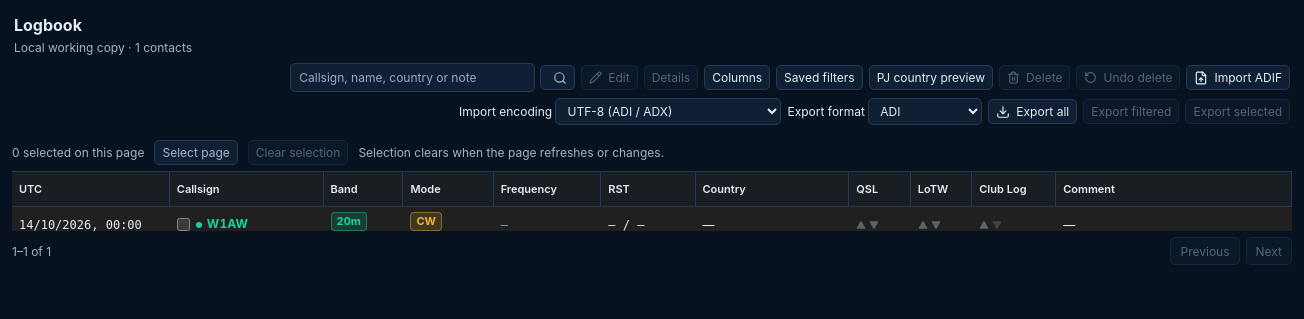
Test: saves native selected as adi through the chooser without a browser download
Expected: the text "W1AW" is shown, top-left (170, 207), bottom-right (324, 231)
Select "ADI" in the dropdown labelled "Export format" at {"x": 925, "y": 112}, box top-left (868, 98), bottom-right (982, 125)
Click the checkbox named "Select W1AW 14/10/2026, 00:00 for export" at {"x": 183, "y": 225}, box top-left (177, 211), bottom-right (190, 238)
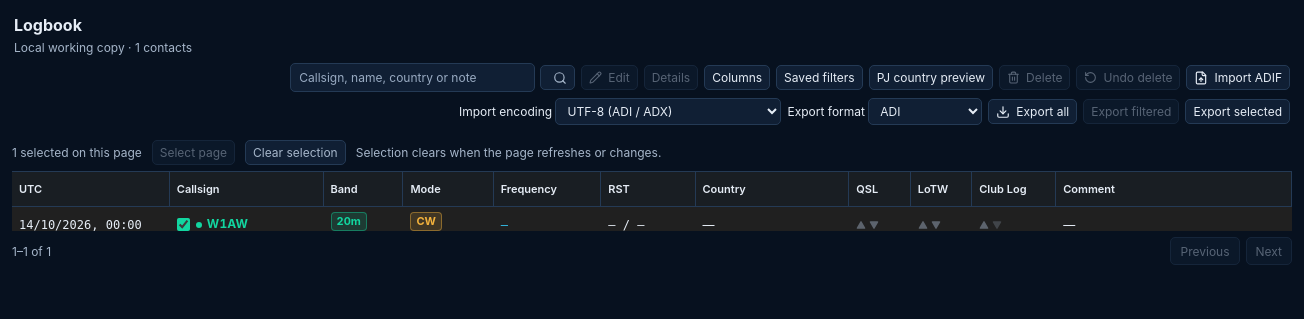
Click the button "Export selected" at {"x": 1238, "y": 112}, box top-left (1185, 99), bottom-right (1290, 124)
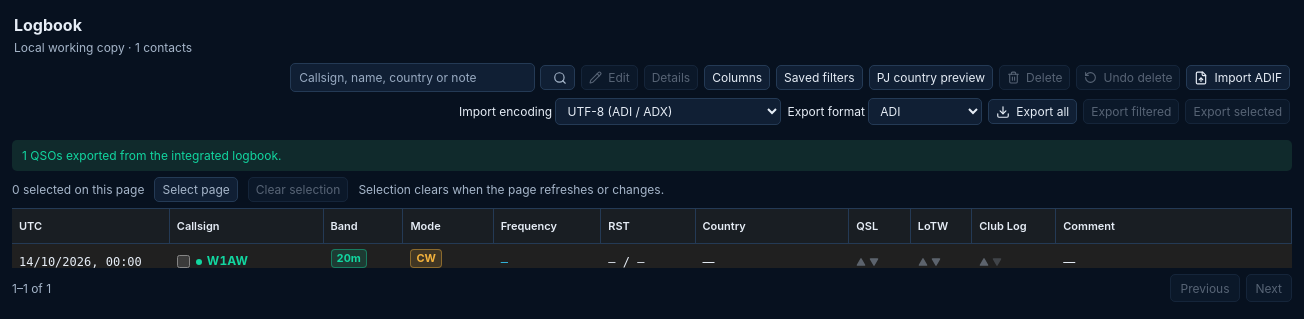
Now the text "1 QSOs exported from the integrated logbook." is shown, box top-left (12, 140), bottom-right (1292, 171)
